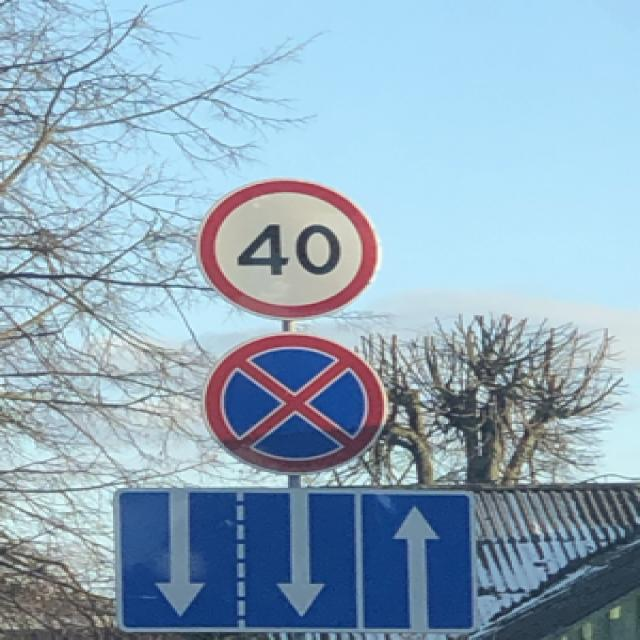speedlimit: (192, 176, 375, 318)
